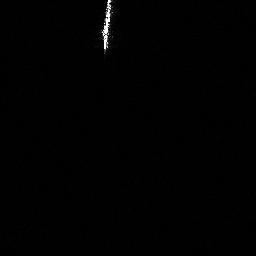ship: (97, 1, 116, 54)
